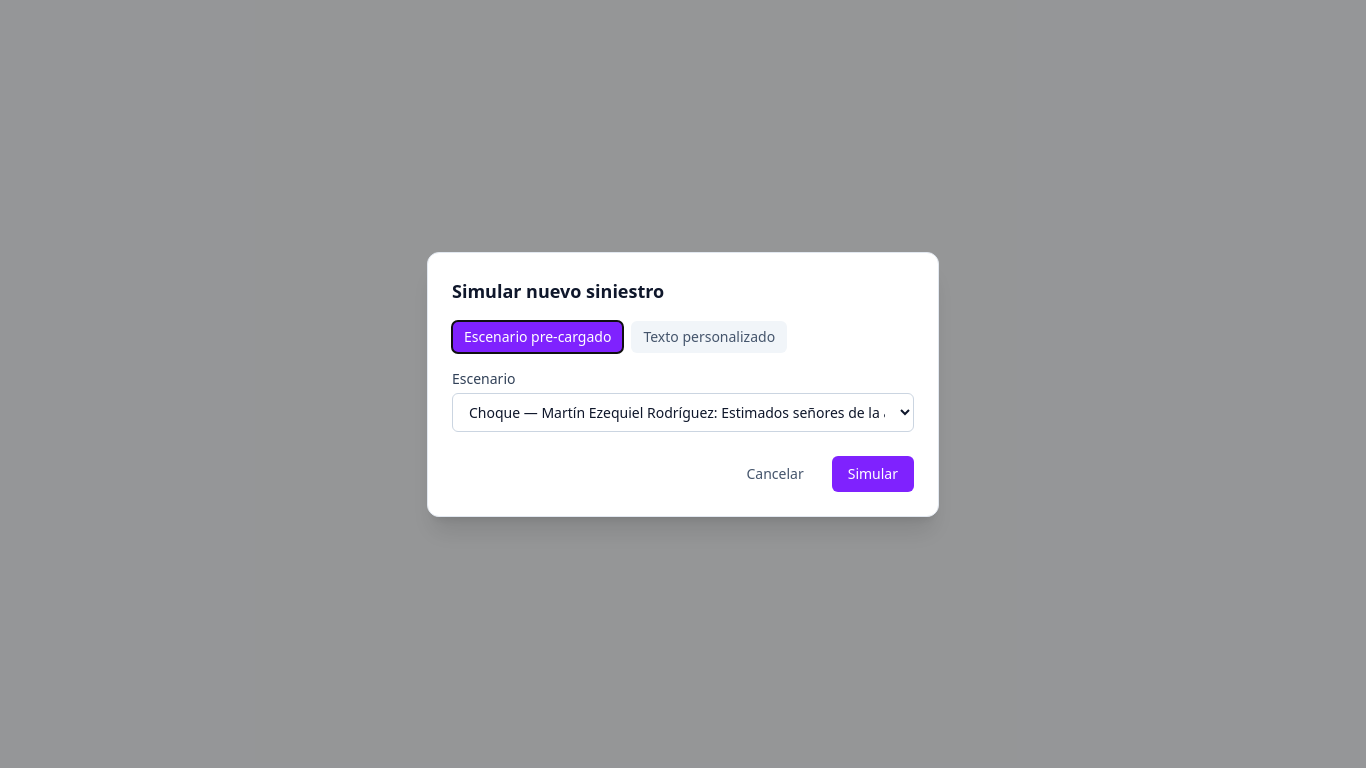
Scenario: SimulateModal › switches to custom mode when text personalizado tab is clicked
Click the button "Texto personalizado" at (709, 336), box [631,320,787,352]
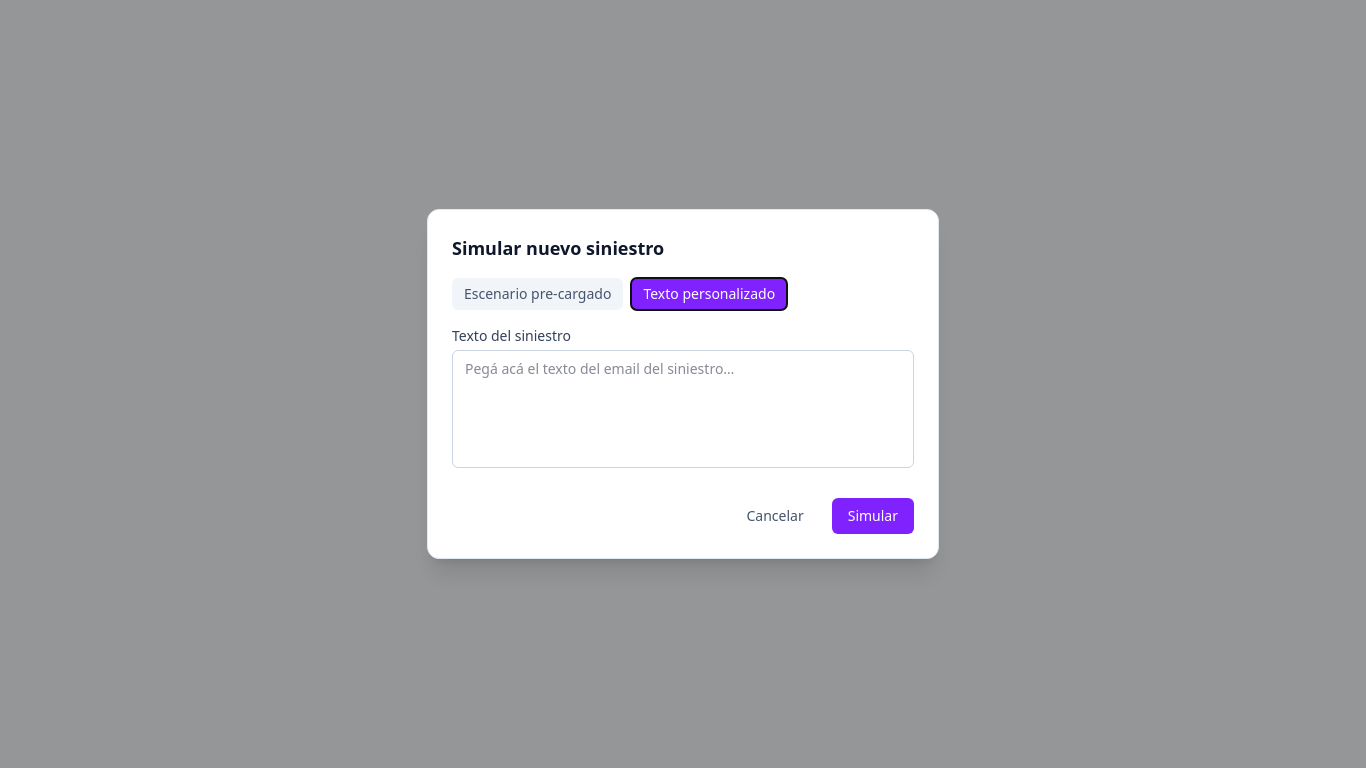
Expected: the text box labelled "Texto del siniestro" is shown, [452,350,914,468]
